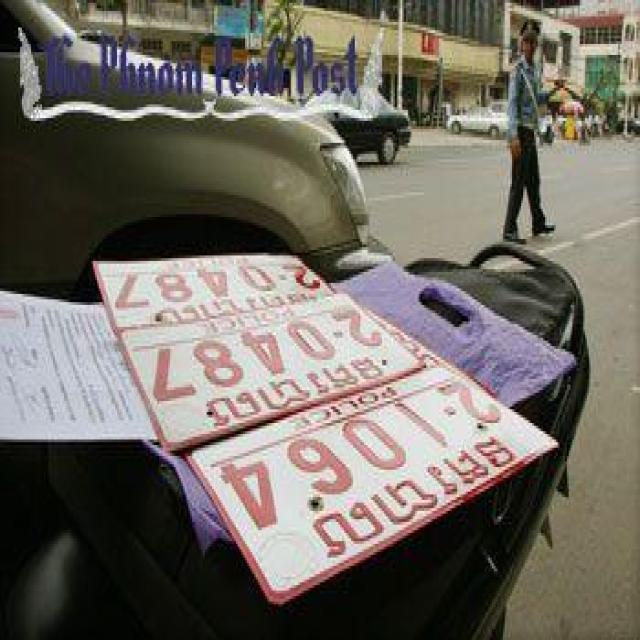Police: (313, 434, 514, 556), (207, 354, 381, 421), (156, 289, 313, 328)
